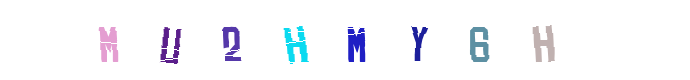2: (256, 0, 336, 80)
6: (424, 0, 504, 80)
H: (306, 0, 386, 80), (447, 0, 527, 80)
M: (68, 0, 148, 80), (337, 0, 417, 80)
U: (171, 0, 251, 80)
Y: (362, 0, 442, 80)
